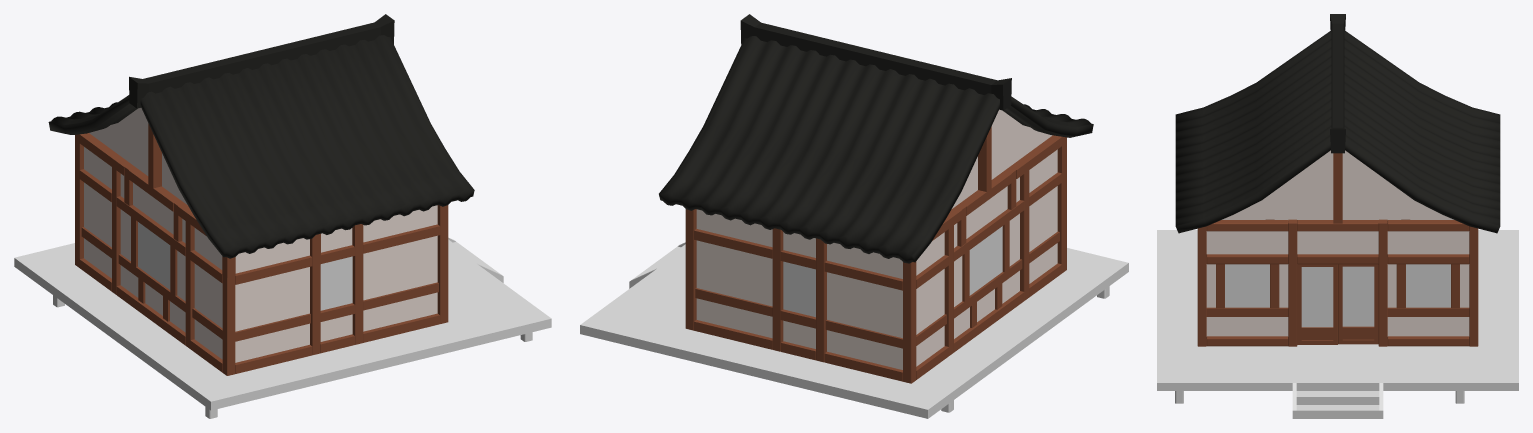
File: House1_LOD1.fbx
3 renders of one model, left to right at view 1: azimuth 30°, elevation 25°; view 2: azimuth 150°, elevation 25°; view 3: azimuth 270°, elevation 25°, orthographic. The views are drawn at different scales.
Parts seen in each view (by area): view 1: Cube.164; view 2: Cube.164; view 3: Cube.164.
Boxes of the visible parts, x1=… form: Cube.164: x1=14, y1=14, x2=551, y2=418; Cube.164: x1=580, y1=14, x2=1128, y2=418; Cube.164: x1=1157, y1=14, x2=1518, y2=418.
Size of the model in its own units: 860 by 609 by 800.
